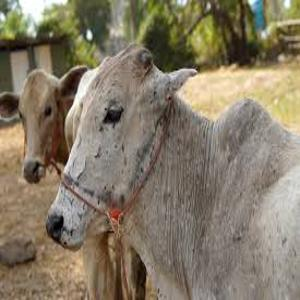lumpy skin diesease: (44, 42, 299, 299), (0, 64, 151, 299), (0, 64, 88, 184)
